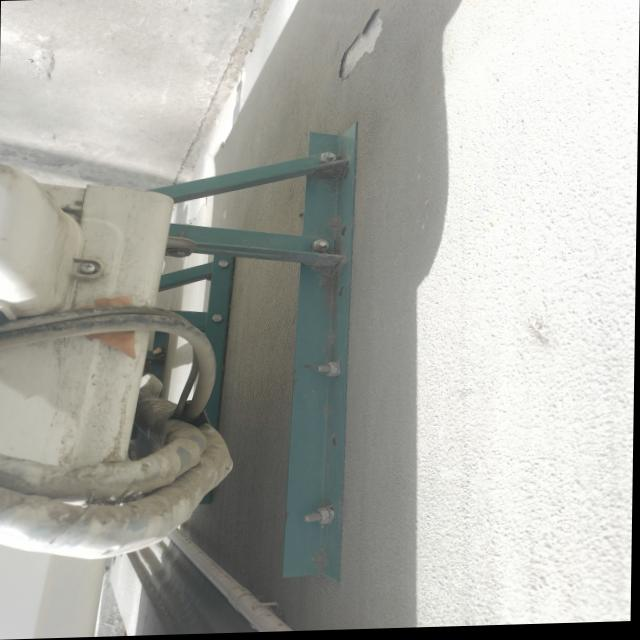Regular bolt: (325, 363, 341, 379), (316, 510, 332, 526), (320, 154, 337, 167), (313, 241, 331, 253), (171, 252, 188, 259), (214, 316, 224, 324), (219, 261, 229, 269)
